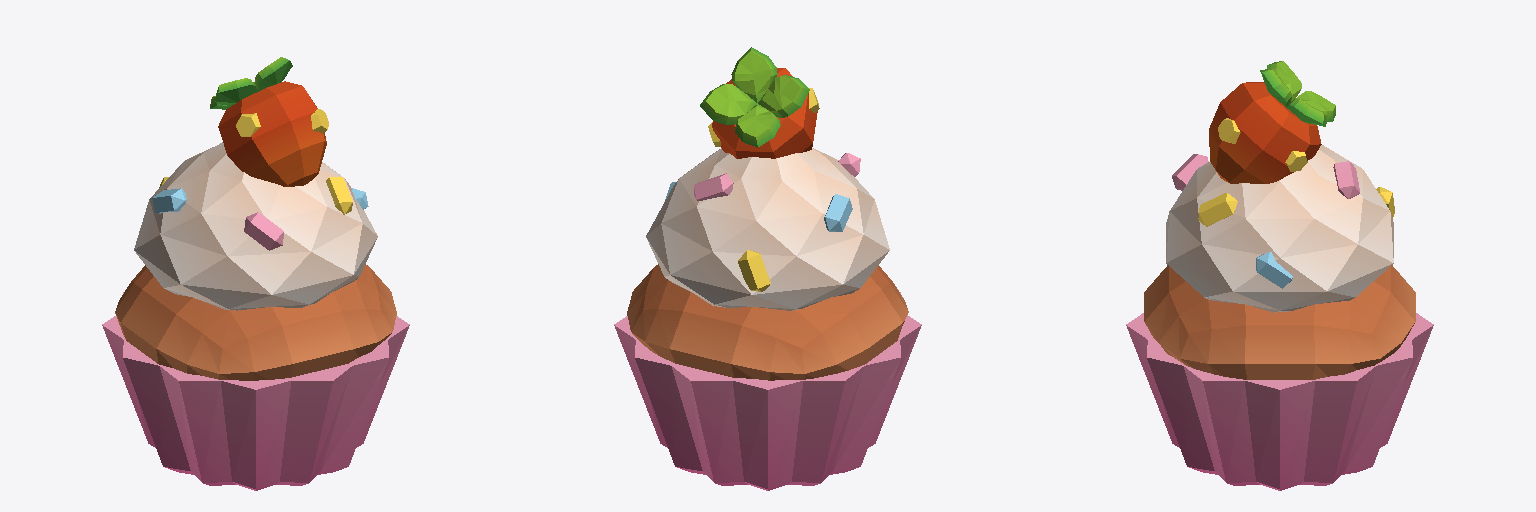
3 views of the same model, side by side, from view 1: azimuth 30°, elevation 25°; view 2: azimuth 150°, elevation 25°; view 3: azimuth 270°, elevation 25° (orthographic).
Parts seen in each view (by area): view 1: cupcake; view 2: cupcake; view 3: cupcake.
Part boxes in pixels (x1,y1,x2,y2): cupcake: (102,57,409,490); cupcake: (614,47,921,490); cupcake: (1126,61,1433,490).
Bounding box in the file's own units: 0.3617 × 0.5102 × 0.3617.
1 materials, 1 textured.